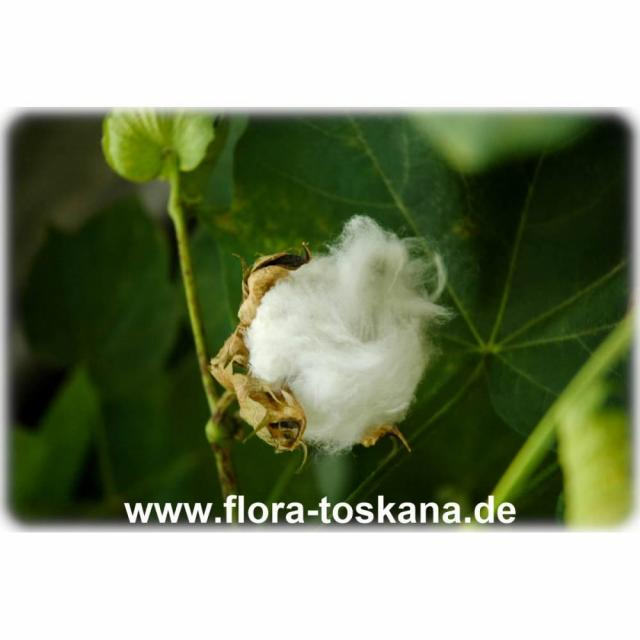Early_blight: (201, 209, 469, 475)
